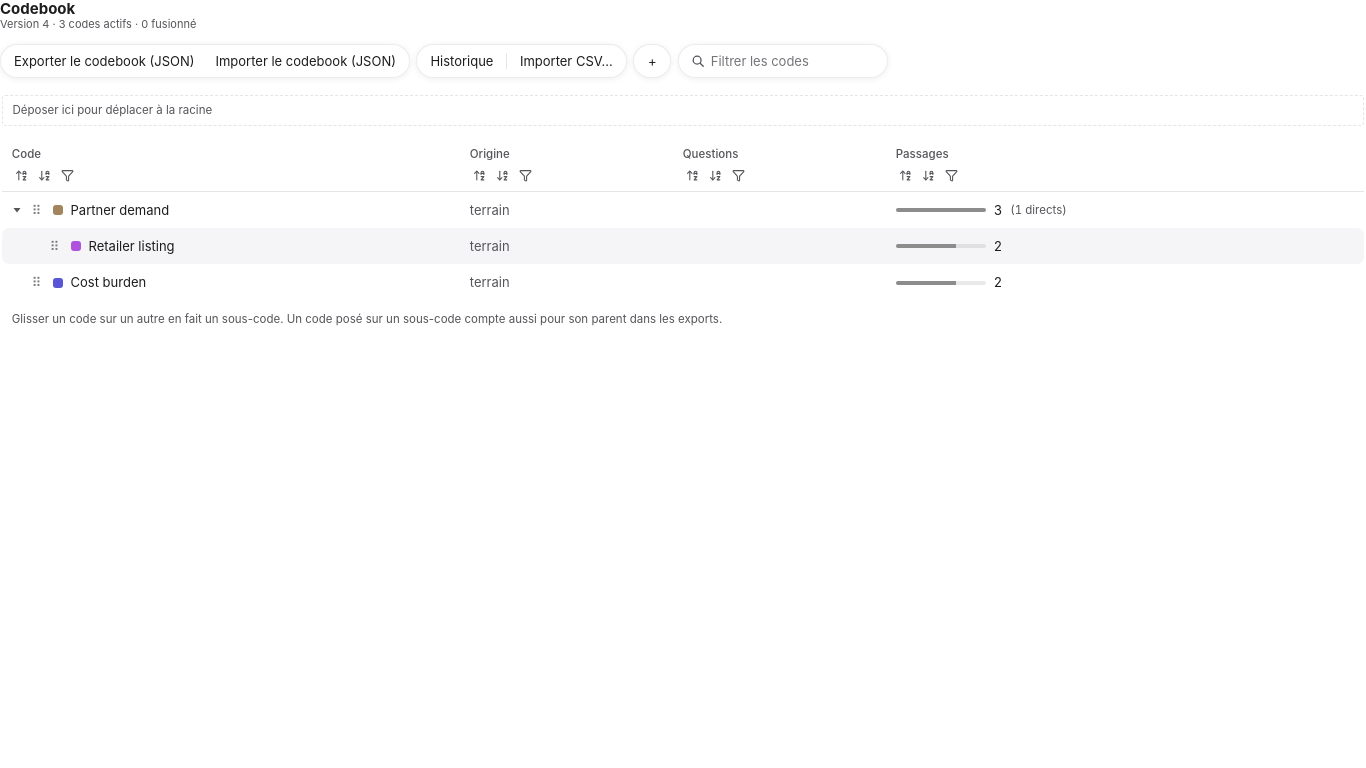
codebook page › refuses a merge without a rationale
Click the text "Cost burden" at (108, 282), box [2,264,1364,301]
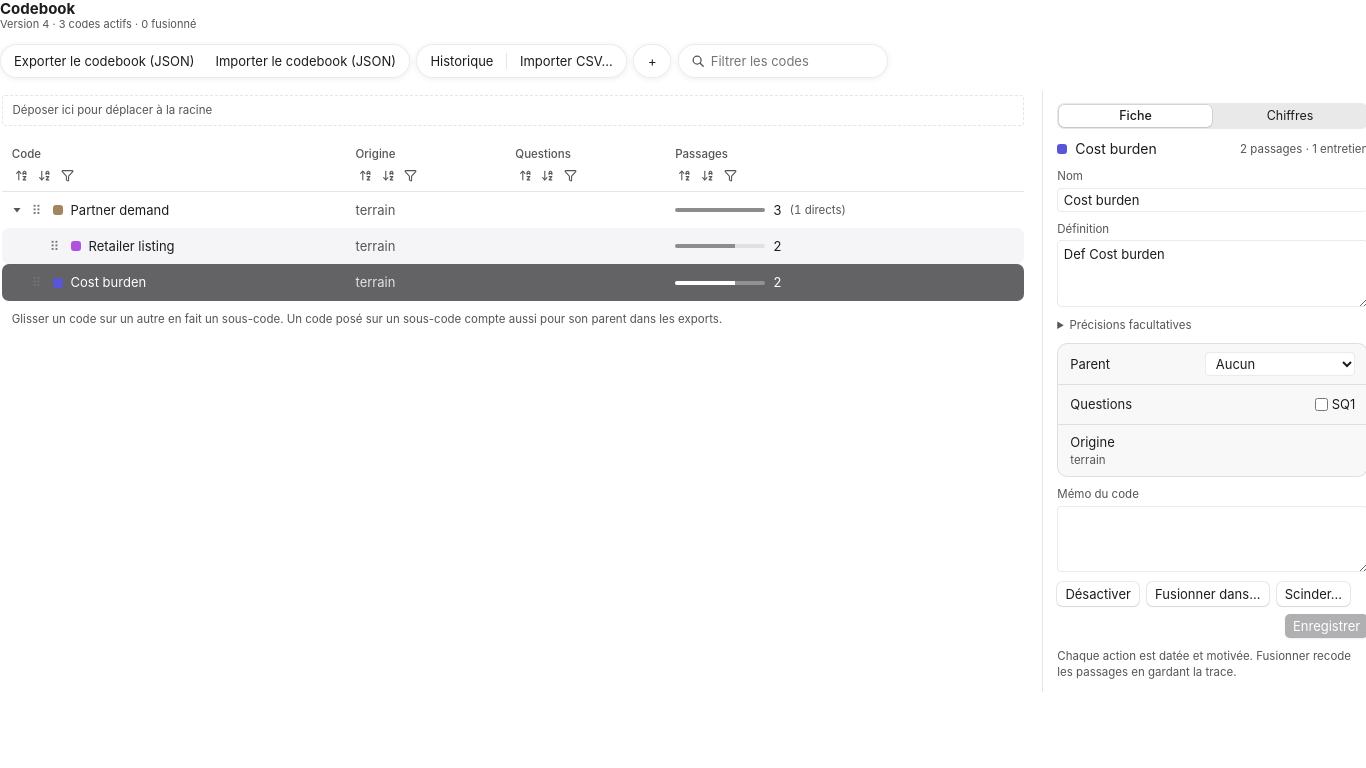
Click the button "Fusionner dans…" at (1208, 594), box [1147,582,1268,606]
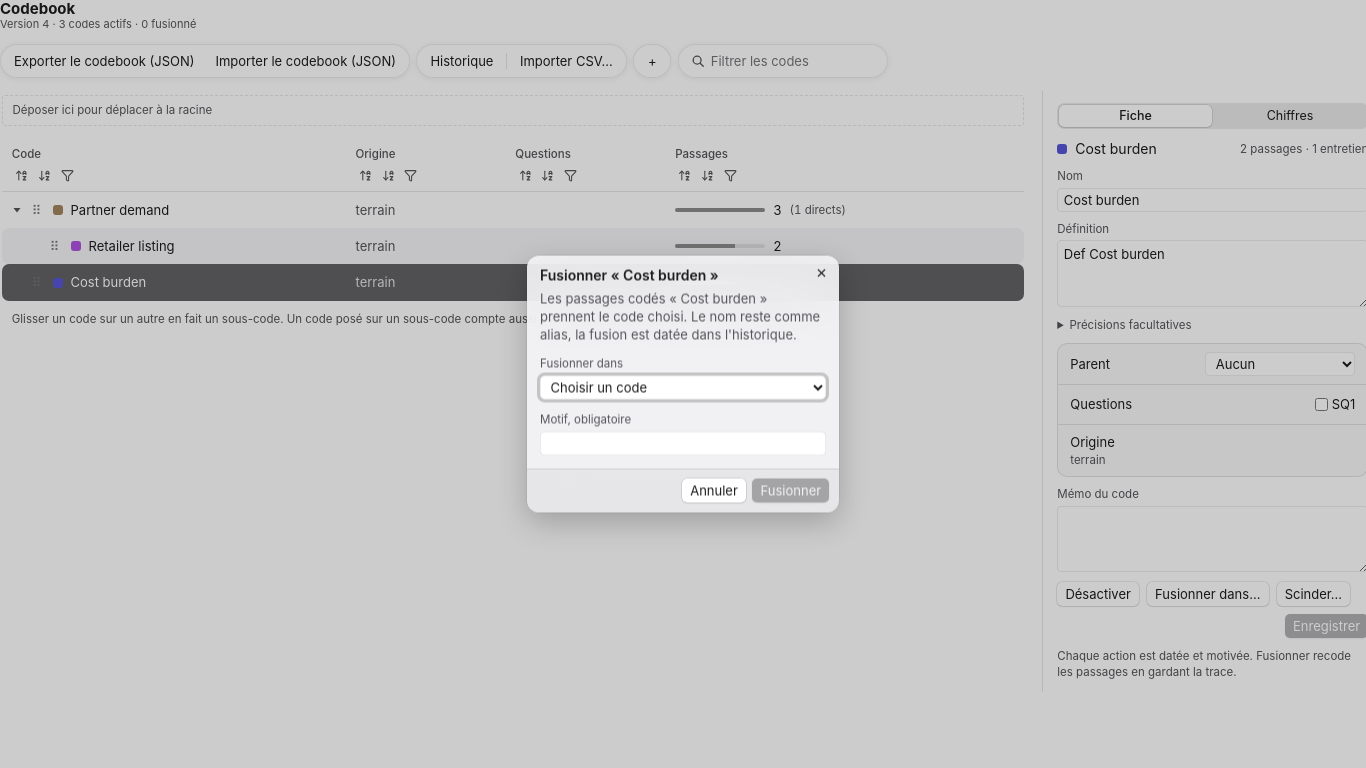
Select "Partner demand" in the dropdown labelled "Fusionner dans" at (683, 387), box [540,375,826,399]
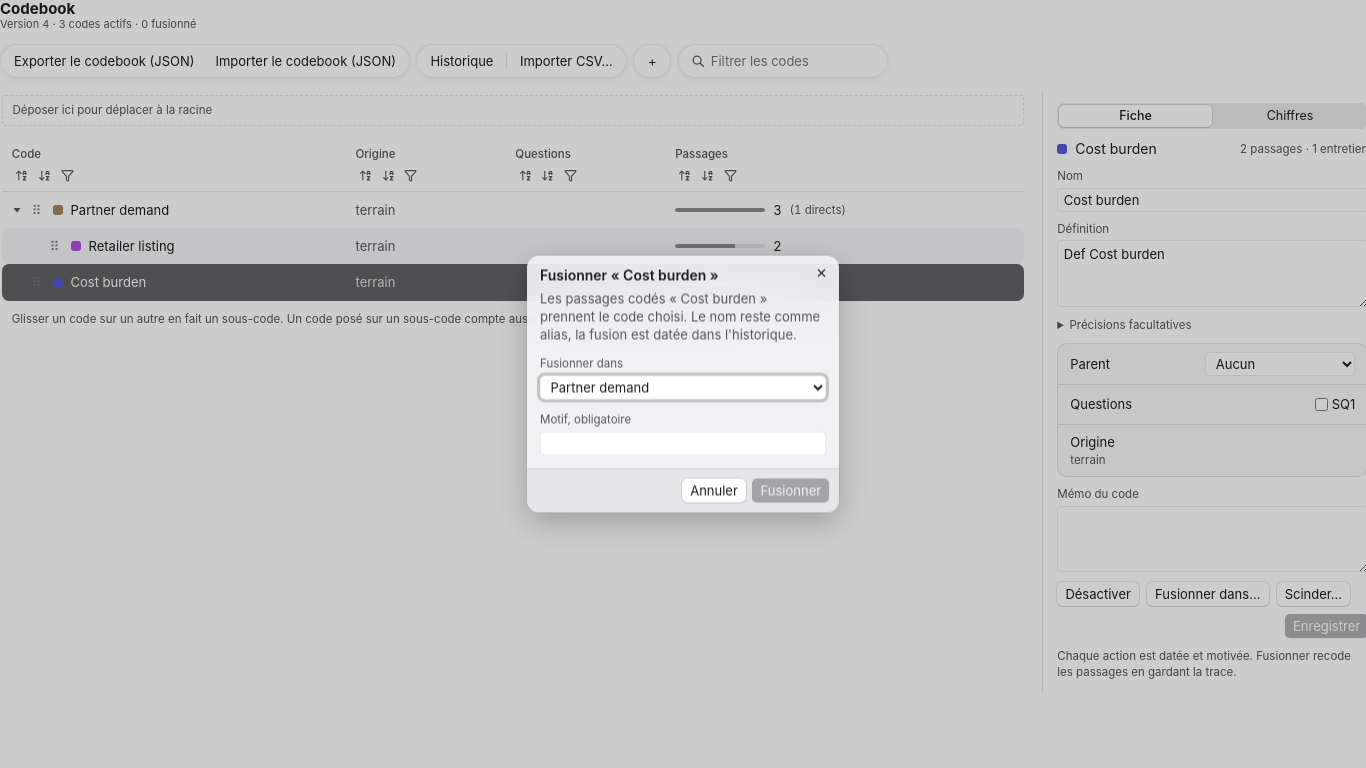
Result: the button "Fusionner" is disabled at [752,479,829,503]
Type "doublon" into the field labelled "Motif, obligatoire" at (683, 443), box [540,431,826,455]
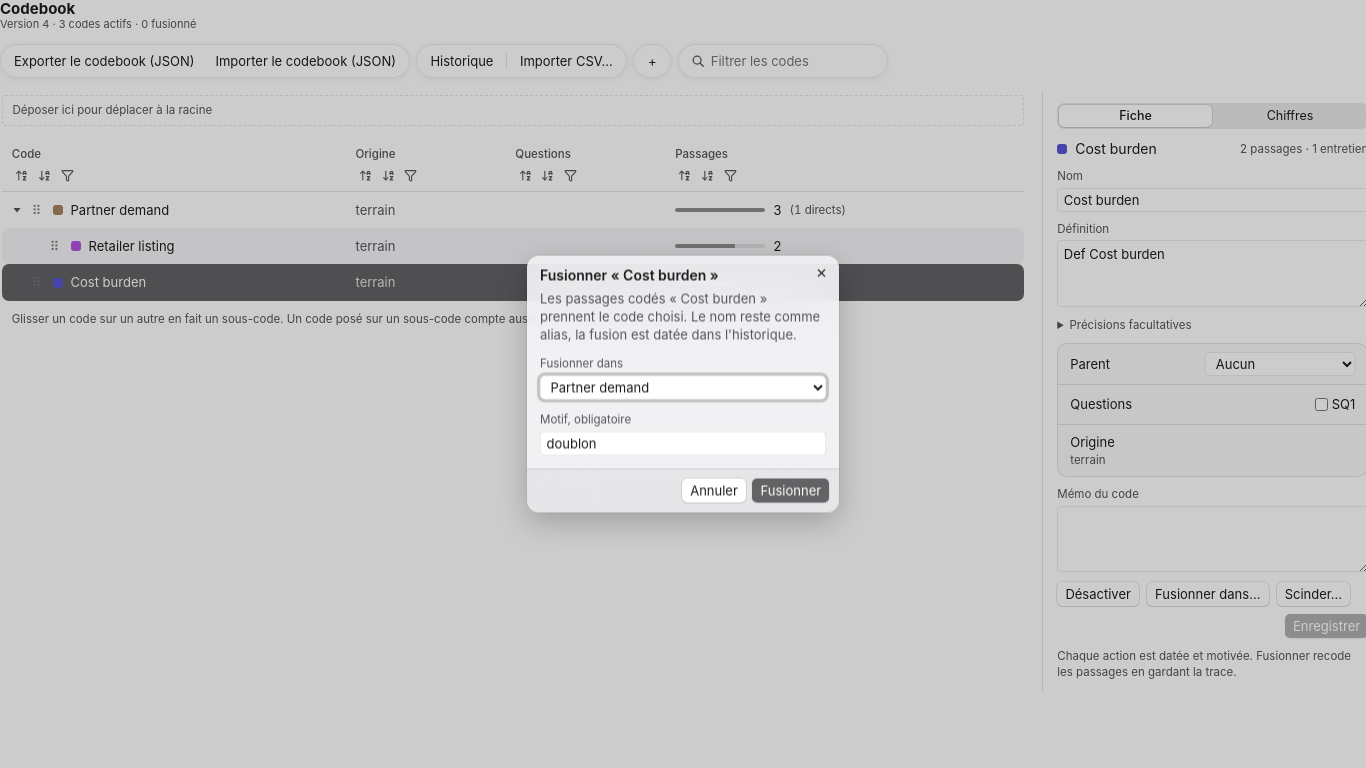
Result: the button "Fusionner" is enabled at [752,479,829,503]
